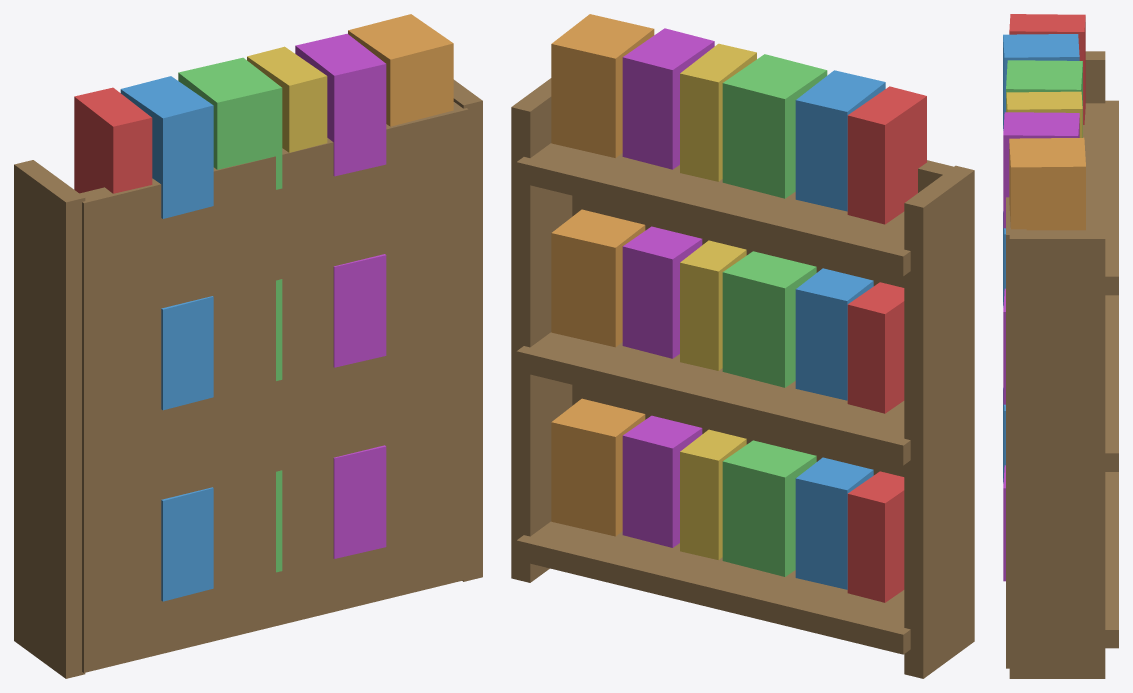
The model's file is bookshelf.glb.
3 views of the same model, side by side, from view 1: azimuth 30°, elevation 25°; view 2: azimuth 150°, elevation 25°; view 3: azimuth 270°, elevation 25° (orthographic). The views are drawn at different scales.
Parts seen in each view (by area): view 1: Cube, Cube.004, Cube.019, Cube.022, Cube.020, Cube.005, Cube.023, Cube.018, Cube.010, Cube.016, Cube.007, Cube.013 (+3 smaller); view 2: Cube.004, Cube.001, Cube.003, Cube.002, Cube.005, Cube.020, Cube.023, Cube.014, Cube.008, Cube.011, Cube.017, Cube.018 (+12 smaller); view 3: Cube.005, Cube.023, Cube.003, Cube.022, Cube.020, Cube.001, Cube.002, Cube.019, Cube.018, Cube, Cube.021, Cube.004 (+4 smaller).
Boxes of the visible parts, x1=… form: Cube: x1=79, y1=102, x2=468, y2=672; Cube.004: x1=14, y1=160, x2=85, y2=678; Cube.019: x1=120, y1=76, x2=213, y2=218; Cube.022: x1=295, y1=33, x2=386, y2=176; Cube.020: x1=178, y1=57, x2=282, y2=189; Cube.005: x1=453, y1=79, x2=482, y2=581; Cube.023: x1=348, y1=14, x2=453, y2=126; Cube.018: x1=74, y1=87, x2=152, y2=193; Cube.010: x1=333, y1=445, x2=386, y2=558; Cube.016: x1=333, y1=254, x2=386, y2=367; Cube.007: x1=161, y1=487, x2=213, y2=601; Cube.013: x1=161, y1=296, x2=213, y2=410; Cube.004: x1=904, y1=165, x2=974, y2=678; Cube.001: x1=516, y1=521, x2=910, y2=654; Cube.003: x1=516, y1=143, x2=910, y2=276; Cube.002: x1=516, y1=332, x2=910, y2=465; Cube.005: x1=511, y1=78, x2=572, y2=582; Cube.020: x1=722, y1=54, x2=827, y2=198; Cube.023: x1=551, y1=14, x2=654, y2=157; Cube.014: x1=722, y1=251, x2=816, y2=387; Cube.008: x1=722, y1=440, x2=816, y2=576; Cube.011: x1=551, y1=398, x2=645, y2=536; Cube.017: x1=551, y1=209, x2=645, y2=347; Cube.018: x1=847, y1=86, x2=926, y2=224; Cube.005: x1=1009, y1=230, x2=1105, y2=678; Cube.023: x1=1009, y1=137, x2=1085, y2=230; Cube.003: x1=1083, y1=100, x2=1118, y2=295; Cube.022: x1=1003, y1=112, x2=1079, y2=228; Cube.020: x1=1006, y1=60, x2=1082, y2=137; Cube.001: x1=1105, y1=472, x2=1118, y2=648; Cube.002: x1=1105, y1=295, x2=1118, y2=471; Cube.019: x1=1003, y1=34, x2=1079, y2=130; Cube.018: x1=1009, y1=14, x2=1085, y2=124; Cube: x1=1006, y1=197, x2=1026, y2=668; Cube.021: x1=1006, y1=91, x2=1082, y2=137; Cube.004: x1=1085, y1=51, x2=1105, y2=103.
Bounding box in the file's own units: 1.3 × 1.61 × 0.339.
